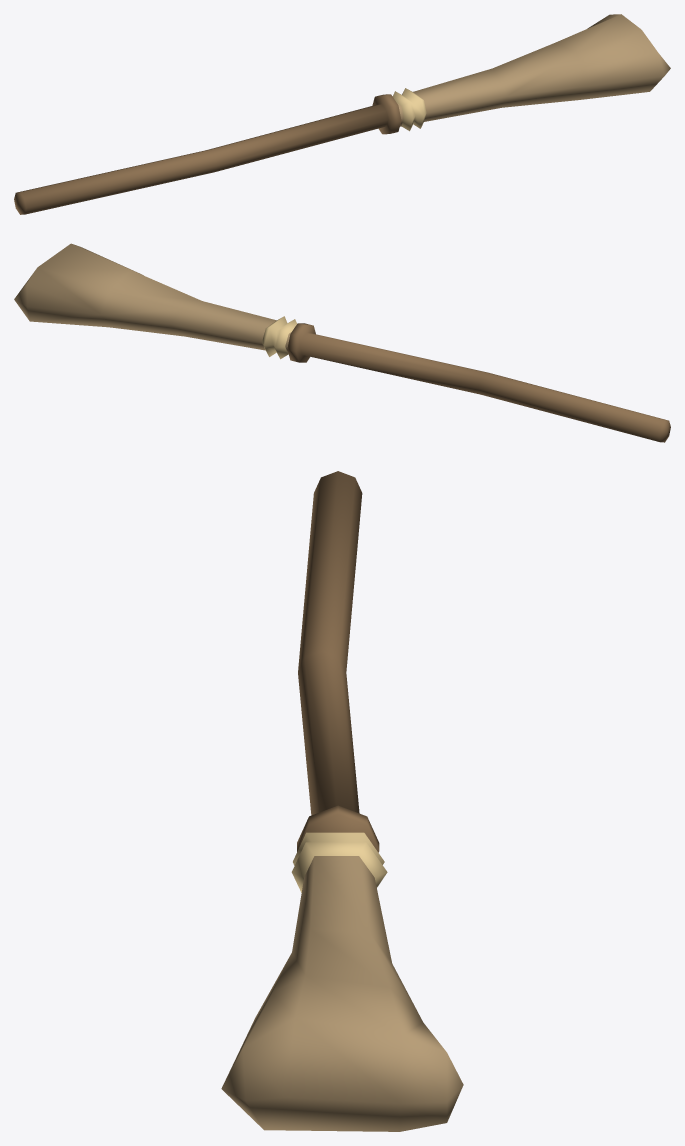
Rendered from rpgpp_ag_broom_01.fbx.
The picture shows the model from 3 angles, top to bottom: view 1: azimuth 30°, elevation 25°; view 2: azimuth 150°, elevation 25°; view 3: azimuth 270°, elevation 25°; orthographic projection. The views are drawn at different scales.
Parts seen in each view (by area): view 1: rpgpp_ag_broom_01; view 2: rpgpp_ag_broom_01; view 3: rpgpp_ag_broom_01.
Boxes of the visible parts, box(x1,y1,x2,y2) form: rpgpp_ag_broom_01: box(14, 14, 670, 214); rpgpp_ag_broom_01: box(14, 243, 670, 442); rpgpp_ag_broom_01: box(221, 471, 463, 1131).
Size of the model in its own units: 1.29 by 0.1096 by 0.215.
